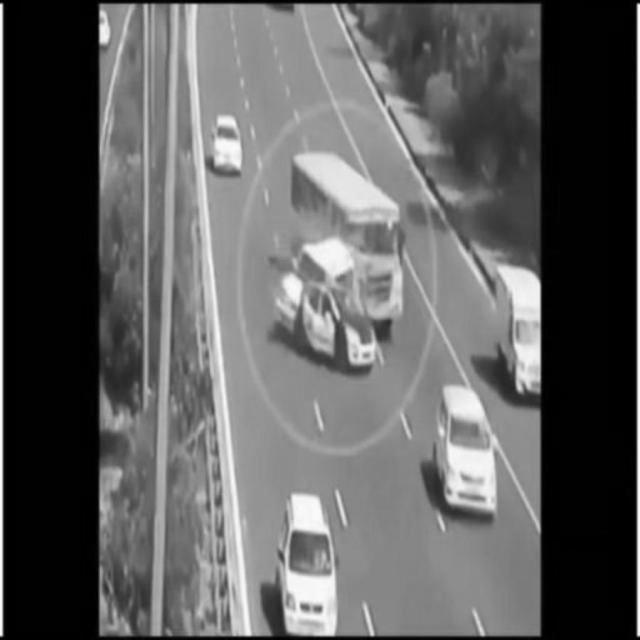accident: (272, 150, 402, 322), (275, 235, 378, 367)
vehicle: (269, 488, 343, 634), (427, 387, 503, 515), (486, 265, 557, 396), (207, 112, 245, 176)
